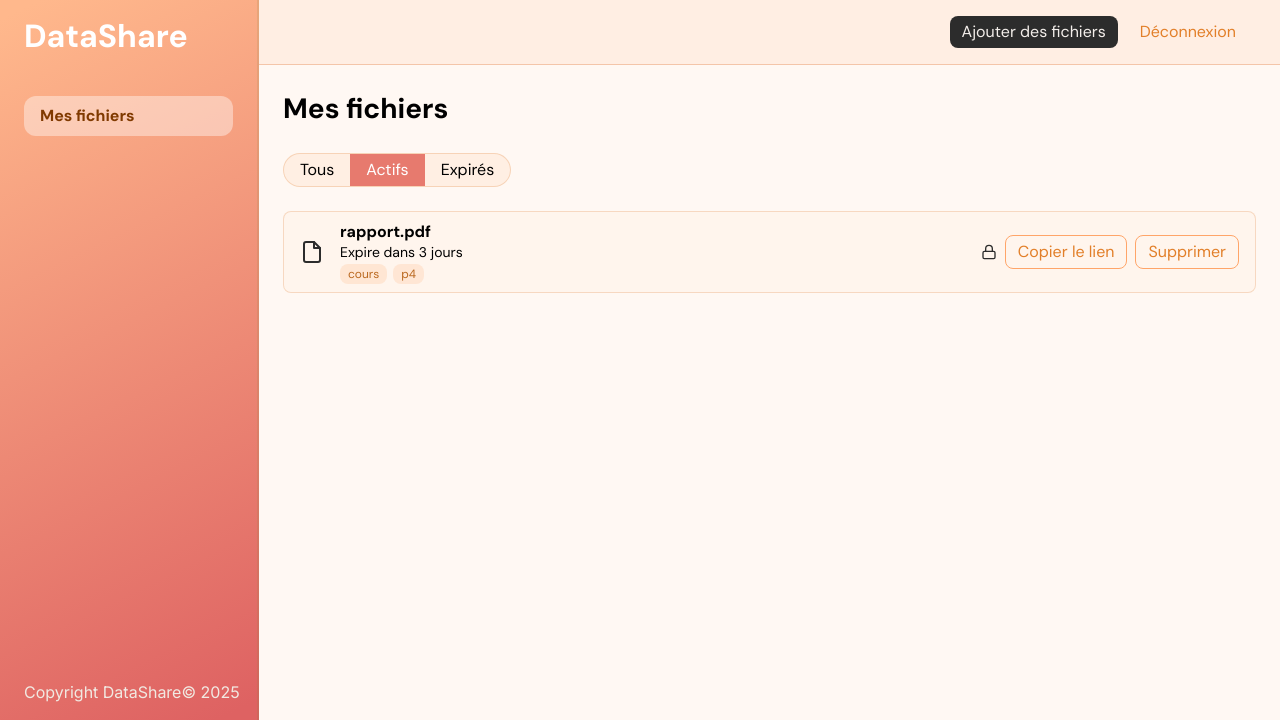
MyFiles › affiche les fichiers : expiration, cadenas, tags, note pour les expirés
Check: the text "Expire dans 3 jours" is shown, box 340,243 -> 463,261
Check: the picture titled "Protégé par mot de passe" is shown, box 981,244 -> 997,260
Click the tab "Tous": (317, 170) 284,154 -> 350,186
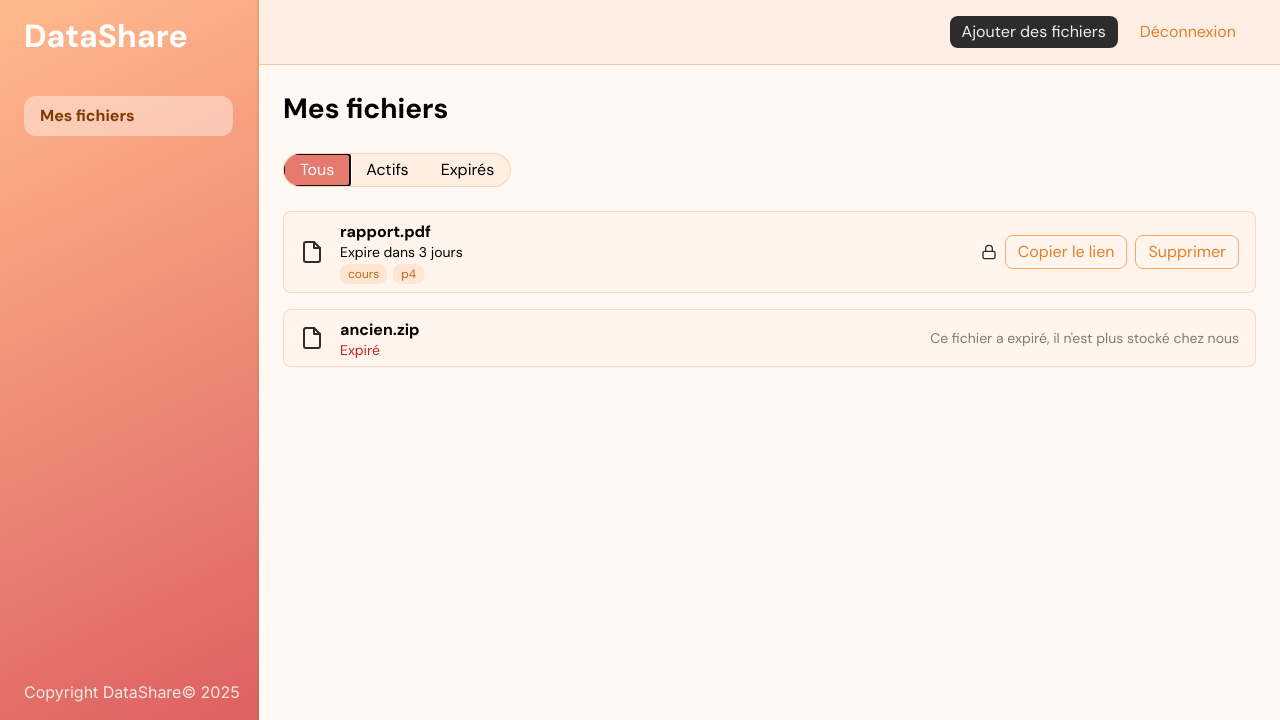
Check: the text "Expiré" is shown, box 340,341 -> 380,359
Check: the text "Ce fichier a expiré, il n'est plus stocké chez nous" is shown, box 930,330 -> 1239,346
